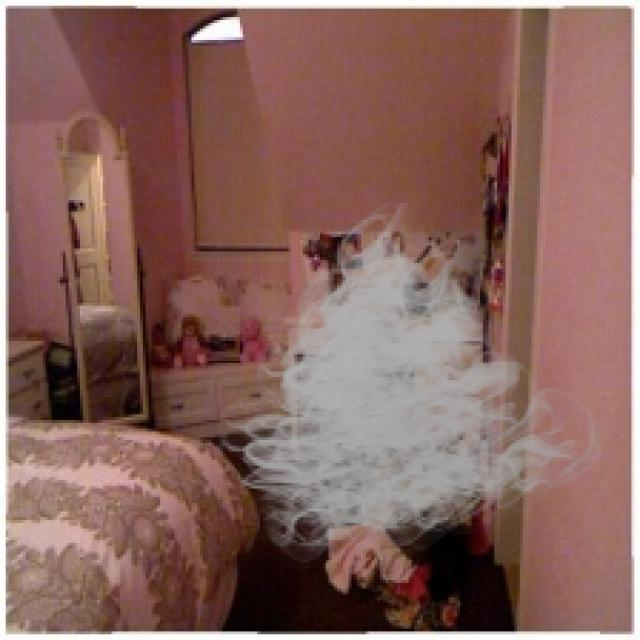Smoke: (206, 203, 612, 572)
